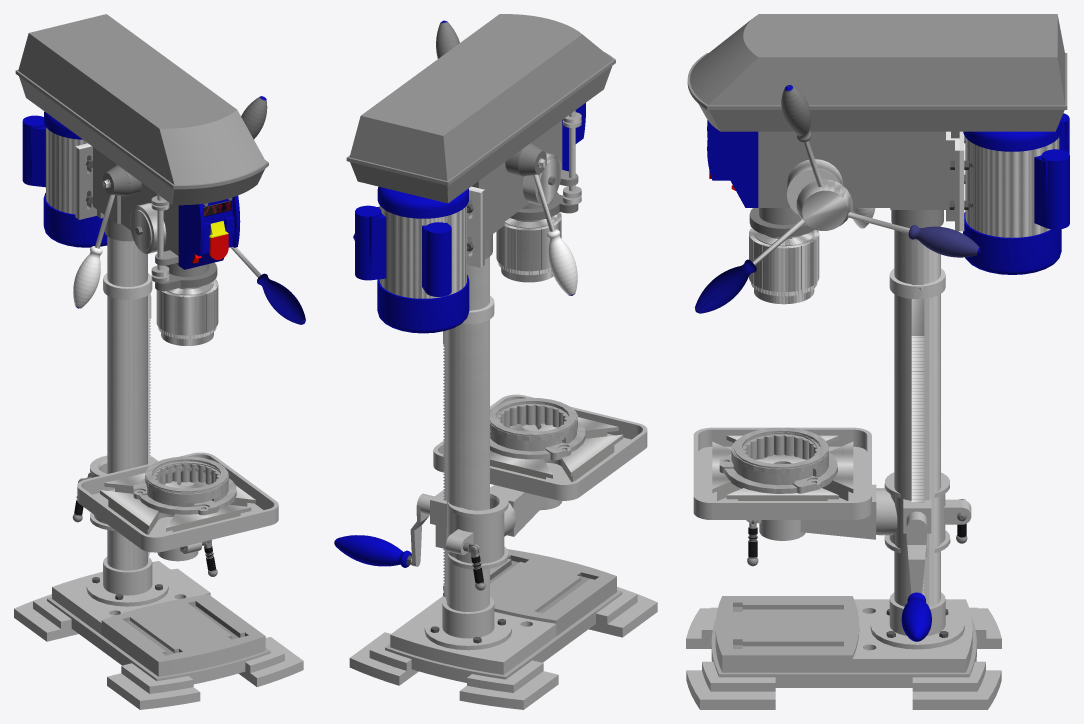
3 renders of one model, left to right at view 1: azimuth 30°, elevation 25°; view 2: azimuth 150°, elevation 25°; view 3: azimuth 270°, elevation 25°, orthographic. The views are drawn at different scales.
Parts seen in each view (by area): view 1: 01, 04, 03, 02.001, 1.001, 2.001, 1, 1.002; view 2: 01, 04, 03, 1.001, 2.001, 1.002, 02.001; view 3: 01, 04, 02.001, 03, 1.001, 2.001, 1.002.
Part boxes in pixels (x1,y1,x2,y2): 01: (14, 14, 303, 709); 04: (72, 452, 278, 576); 03: (156, 279, 218, 345); 02.001: (230, 96, 305, 324); 1.001: (133, 471, 236, 515); 2.001: (152, 460, 220, 503); 1: (152, 461, 223, 503); 1.002: (145, 456, 227, 492); 01: (346, 14, 657, 709); 04: (334, 394, 647, 590); 03: (496, 212, 561, 282); 1.001: (490, 411, 585, 460); 2.001: (496, 402, 569, 443); 1.002: (490, 398, 576, 436); 02.001: (353, 20, 459, 240); 01: (686, 14, 1069, 709); 04: (693, 427, 971, 641); 02.001: (695, 85, 980, 313); 03: (749, 228, 819, 304); 1.001: (719, 442, 837, 493); 2.001: (742, 432, 820, 473); 1.002: (734, 427, 828, 468).
Size of the model in its own units: 485 by 1225 by 676.
39 materials, 12 textured.
